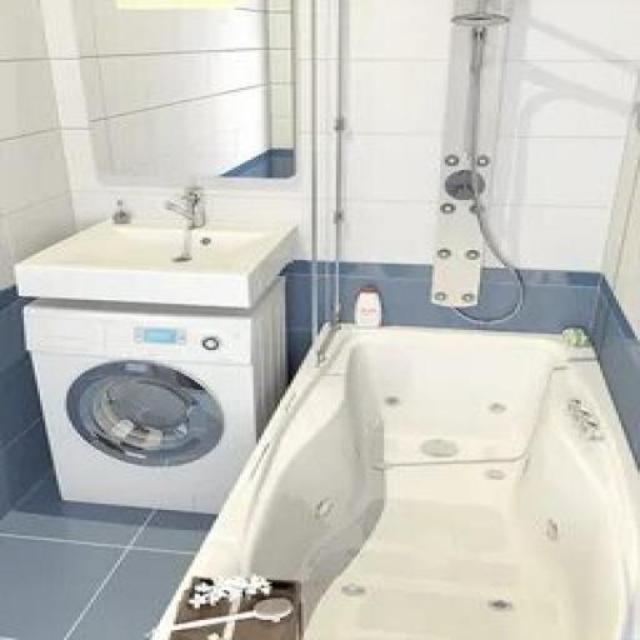Washing-Machine: (21, 295, 282, 507)
